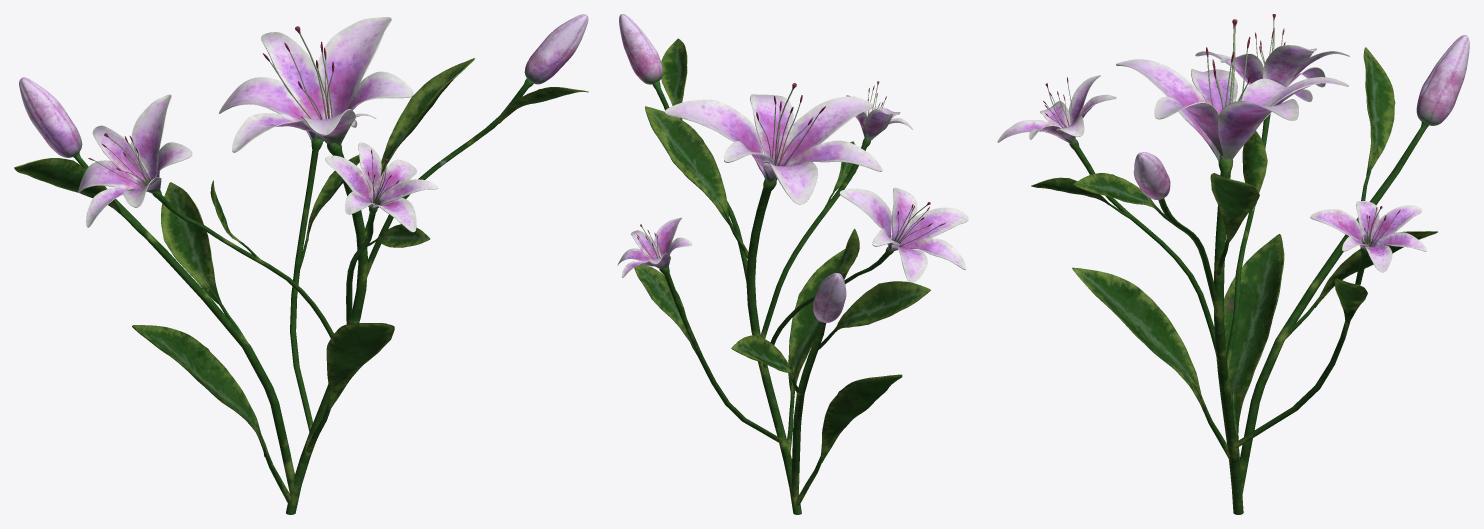
Rendered from purple_lilies.glb.
3 renders of one model, left to right at view 1: azimuth 30°, elevation 25°; view 2: azimuth 150°, elevation 25°; view 3: azimuth 270°, elevation 25°, orthographic. The views are drawn at different scales.
Visible parts, largest first — view 1: Cylinder.008_0_3; view 2: Cylinder.008_0_3; view 3: Cylinder.008_0_3.
Part boxes in pixels (left/top/right/bottom): Cylinder.008_0_3: left=14, top=14, right=588, bottom=514; Cylinder.008_0_3: left=617, top=14, right=968, bottom=514; Cylinder.008_0_3: left=997, top=14, right=1469, bottom=514.
Size of the model in its own units: 12.92 by 12.96 by 11.19.
1 material, 1 textured.
